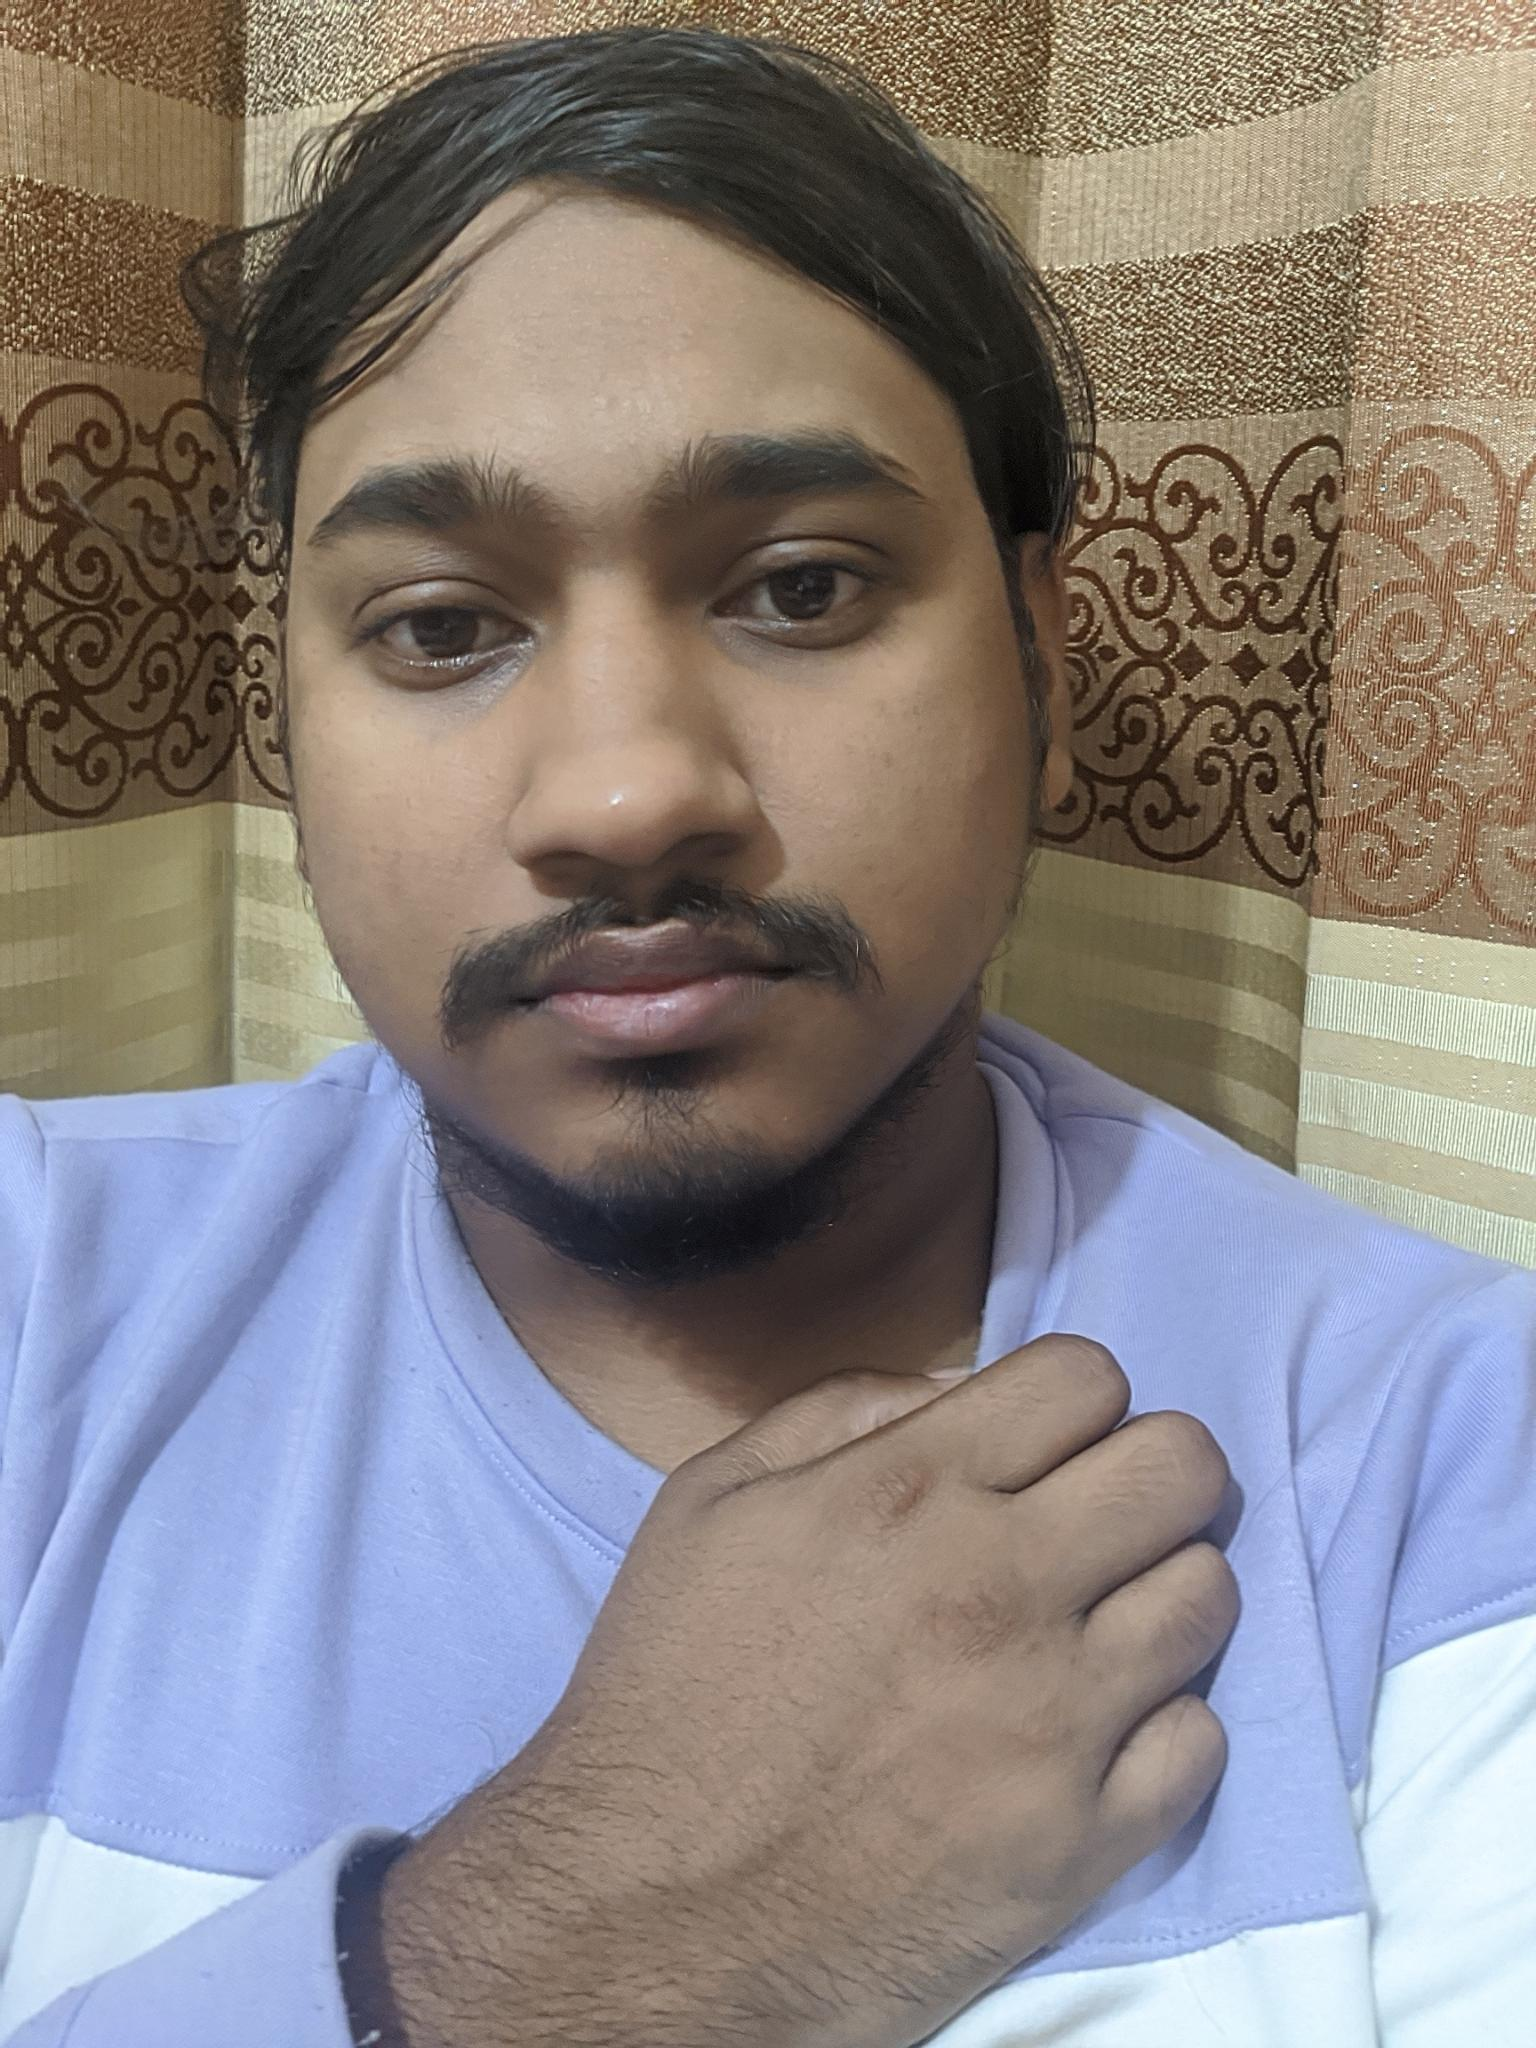Neutral: (255, 356, 1055, 1255)
